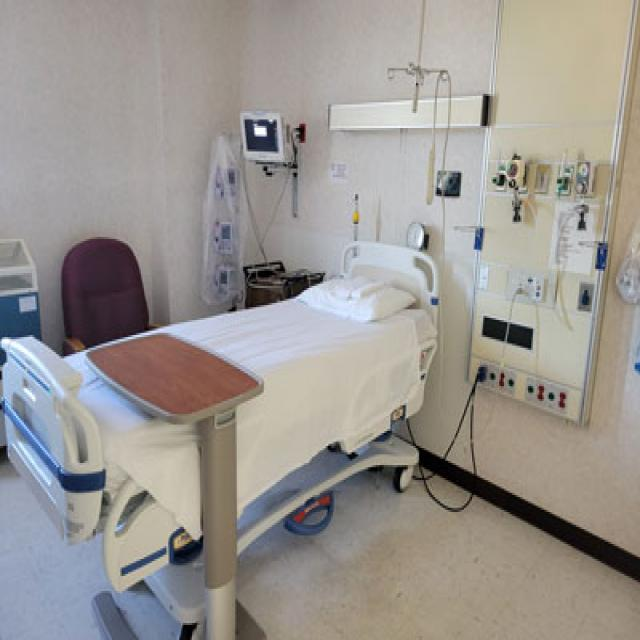cardiac_monitor: (244, 118, 293, 187)
patient_bed: (101, 243, 439, 585)
